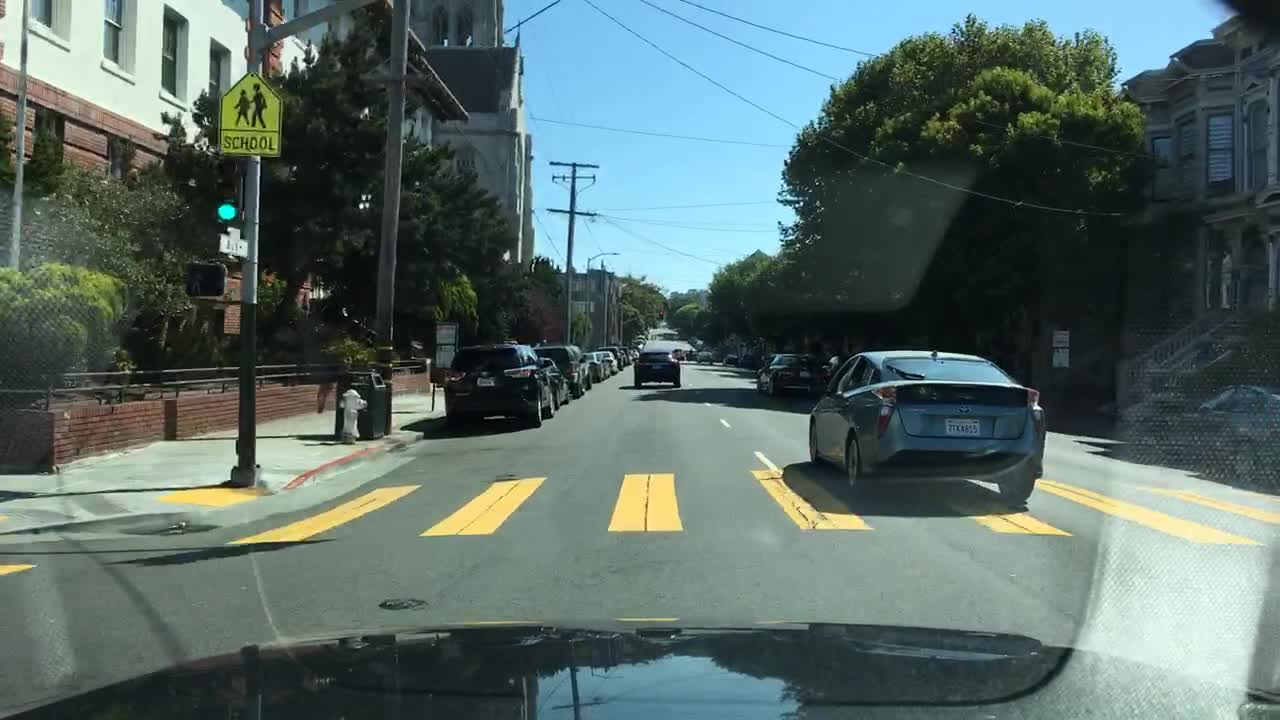car: (806, 347, 1048, 504), (439, 342, 554, 427), (755, 352, 830, 400), (530, 342, 593, 392), (630, 349, 681, 385), (536, 356, 572, 403), (592, 354, 614, 380), (606, 343, 620, 370), (624, 346, 639, 365), (616, 341, 628, 362), (697, 350, 712, 366), (720, 354, 740, 364), (680, 349, 697, 358)
traffic light: (214, 156, 246, 218), (184, 261, 226, 296)
traffic sign: (1125, 384, 1279, 482), (215, 76, 281, 155), (433, 322, 459, 369), (1050, 331, 1067, 365), (222, 234, 247, 256)
